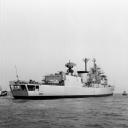Fragata: (10, 55, 117, 102)
